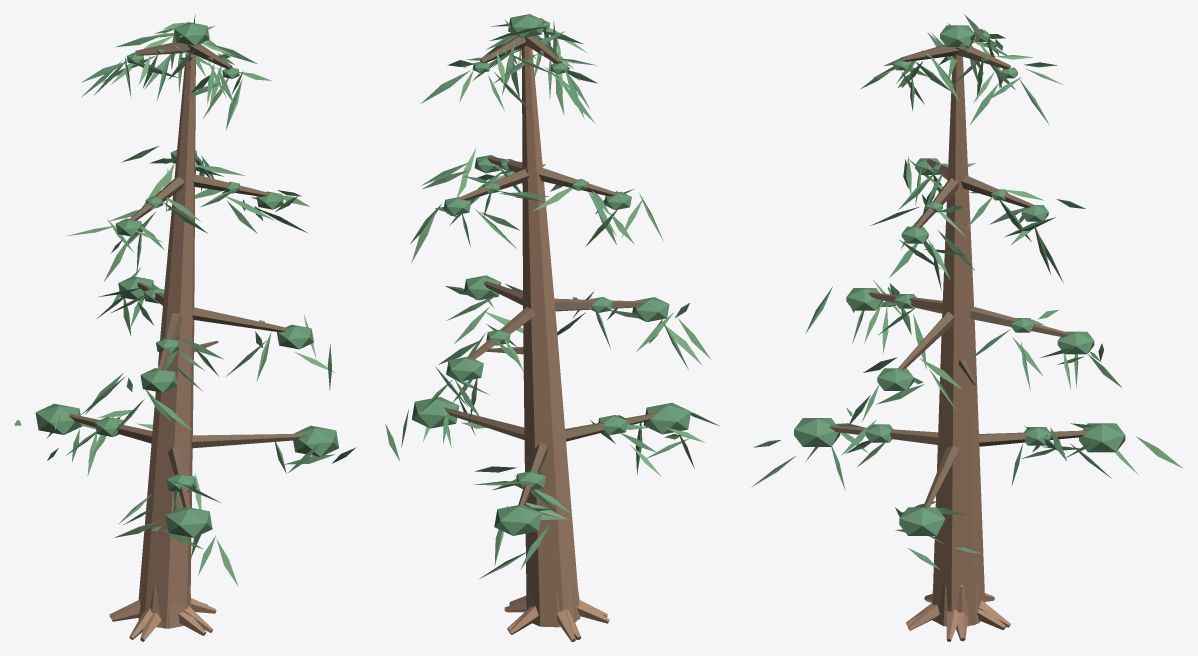
The model's file is plant-pine-a_lod1.glb.
3 renders of one model, left to right at view 1: azimuth 30°, elevation 25°; view 2: azimuth 150°, elevation 25°; view 3: azimuth 270°, elevation 25°, orthographic. The views are drawn at different scales.
Parts seen in each view (by area): view 1: plant-pine-a_standing_trunkPine, plant-pine-a_standing_needleA, plant-pine-a_standing_needleB, plant-pine-a_standing_barkDark, plant-pine-a_stump_trunkPine; view 2: plant-pine-a_standing_trunkPine, plant-pine-a_standing_needleA, plant-pine-a_standing_needleB, plant-pine-a_standing_barkDark, plant-pine-a_stump_trunkPine; view 3: plant-pine-a_standing_trunkPine, plant-pine-a_standing_needleA, plant-pine-a_standing_barkDark, plant-pine-a_standing_needleB, plant-pine-a_stump_trunkPine.
Boxes of the visible parts, x1=… form: plant-pine-a_standing_trunkPine: x1=109, y1=52, x2=216, y2=639; plant-pine-a_standing_needleA: x1=35, y1=14, x2=356, y2=575; plant-pine-a_standing_needleB: x1=14, y1=22, x2=335, y2=586; plant-pine-a_standing_barkDark: x1=69, y1=42, x2=303, y2=507; plant-pine-a_stump_trunkPine: x1=111, y1=579, x2=207, y2=641; plant-pine-a_standing_trunkPine: x1=509, y1=45, x2=609, y2=641; plant-pine-a_standing_needleA: x1=385, y1=14, x2=719, y2=569; plant-pine-a_standing_needleB: x1=411, y1=21, x2=711, y2=579; plant-pine-a_standing_barkDark: x1=444, y1=18, x2=656, y2=505; plant-pine-a_stump_trunkPine: x1=504, y1=581, x2=607, y2=639; plant-pine-a_standing_trunkPine: x1=908, y1=54, x2=1010, y2=641; plant-pine-a_standing_needleA: x1=753, y1=25, x2=1125, y2=569; plant-pine-a_standing_barkDark: x1=829, y1=29, x2=1089, y2=507; plant-pine-a_standing_needleB: x1=751, y1=14, x2=1182, y2=544; plant-pine-a_stump_trunkPine: x1=906, y1=583, x2=1005, y2=641.
Bounding box in the file's own units: 2.89 × 5.74 × 3.71.
